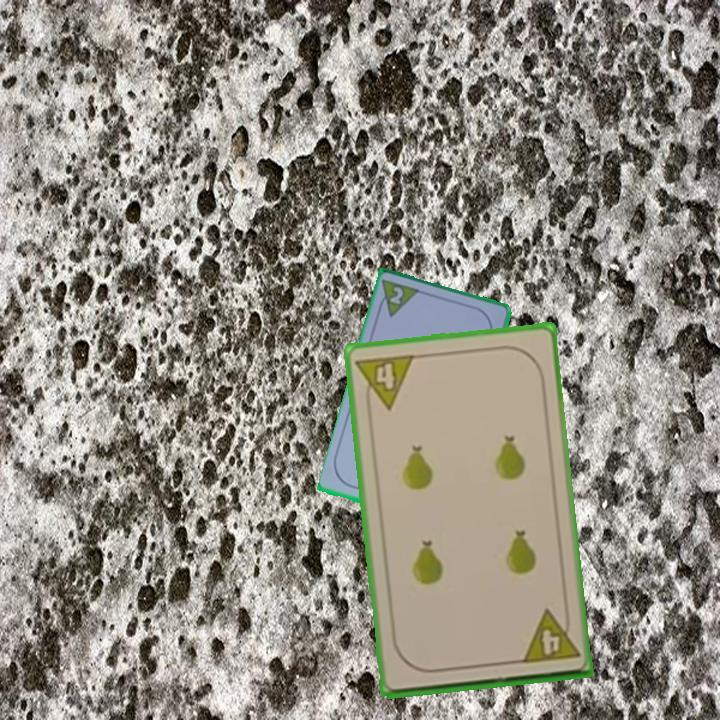2p: (373, 276, 424, 321)
4p: (352, 350, 417, 414), (517, 605, 582, 667)
